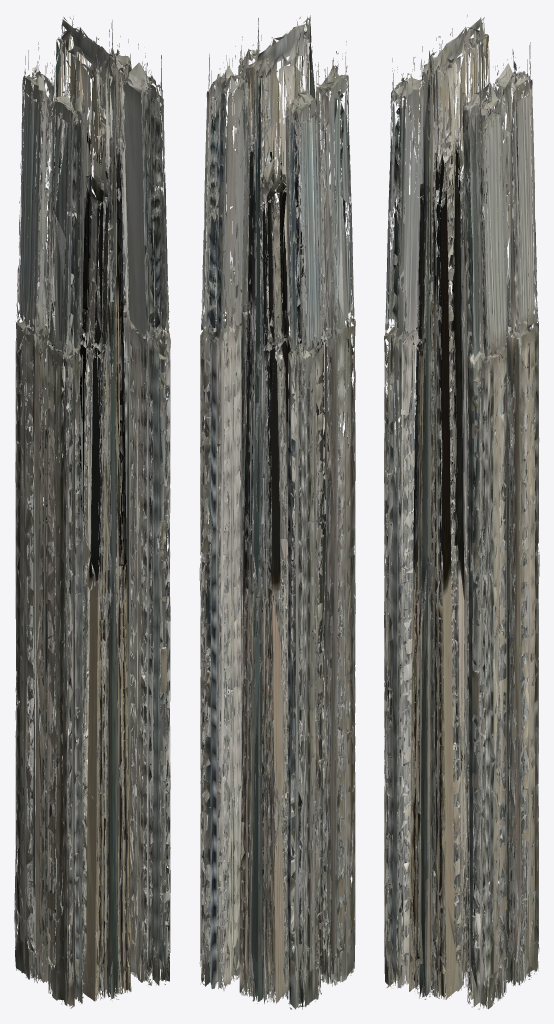
Rendered from marina-101.glb.
3 renders of one model, left to right at view 1: azimuth 30°, elevation 25°; view 2: azimuth 150°, elevation 25°; view 3: azimuth 330°, elevation 25°, orthographic.
Parts seen in each view (by area): view 1: Mesh_0; view 2: Mesh_0; view 3: Mesh_0.
Boxes of the visible parts, left/top/right/bottom form: Mesh_0: left=14, top=16, right=170, bottom=1008; Mesh_0: left=199, top=15, right=355, bottom=1009; Mesh_0: left=384, top=14, right=539, bottom=1009.
Size of the model in its own units: 50 by 424 by 49.71.
Materials: 1 (1 with a texture image).
